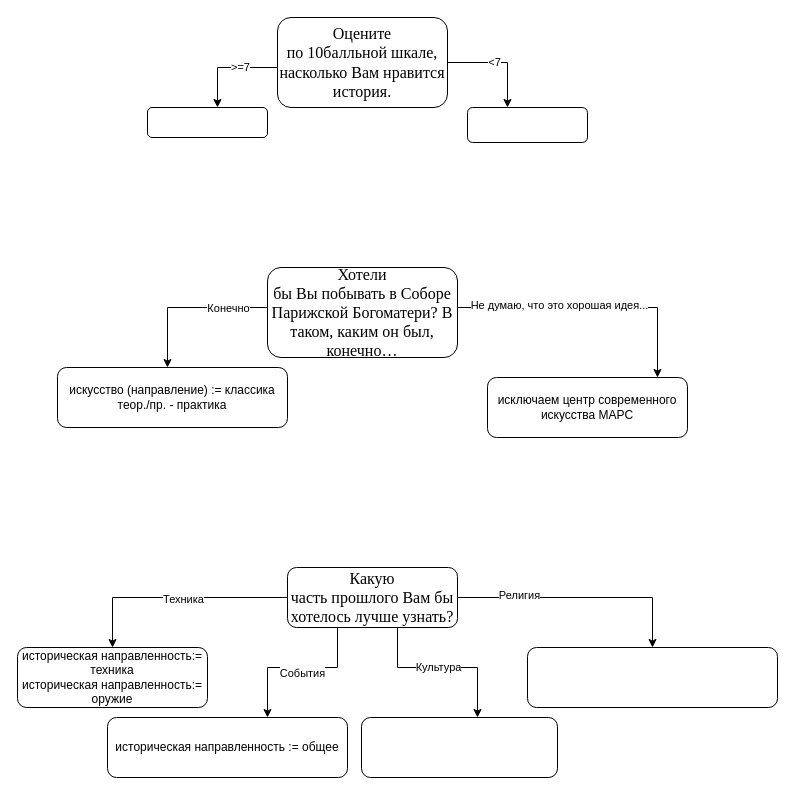
Some shapes in this 795 by 795 pixel diagram are drawn without their labels. Here are the shapes that lost their labels. From the top down, the centre of each, then its label:
At (207,122): "Категория := история".
At (527,124): "пропускаем ряд вопросов".
At (652,677): "историческая направленность := культура религиозное искусство := +".
At (459,747): "историческая направленность := культура".
